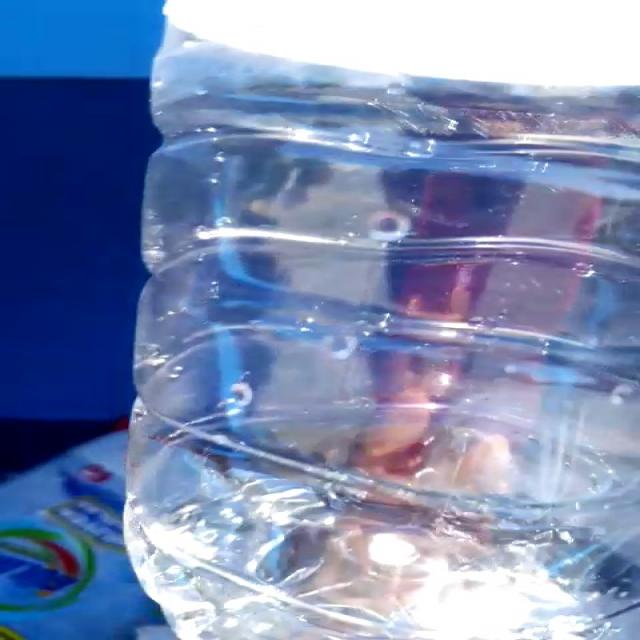plastic: (125, 28, 639, 640)
